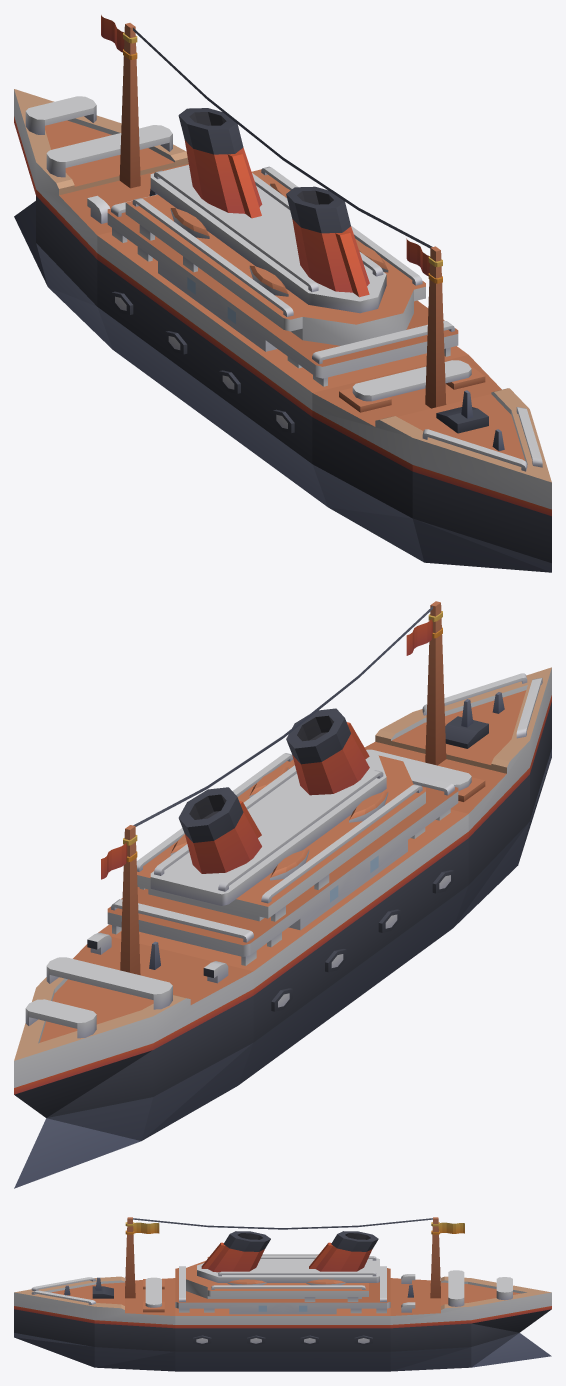
The model's file is liner.glb.
3 renders of one model, top to bottom at view 1: azimuth 30°, elevation 25°; view 2: azimuth 150°, elevation 25°; view 3: azimuth 270°, elevation 25°, orthographic. The views are drawn at different scales.
Parts seen in each view (by area): view 1: liner; view 2: liner; view 3: liner.
Part boxes in pixels (x1=…): liner: x1=14, y1=15, x2=551, y2=572; liner: x1=14, y1=601, x2=551, y2=1188; liner: x1=14, y1=1217, x2=551, y2=1371.
Bounding box in the file's own units: 21 × 34 × 120.
